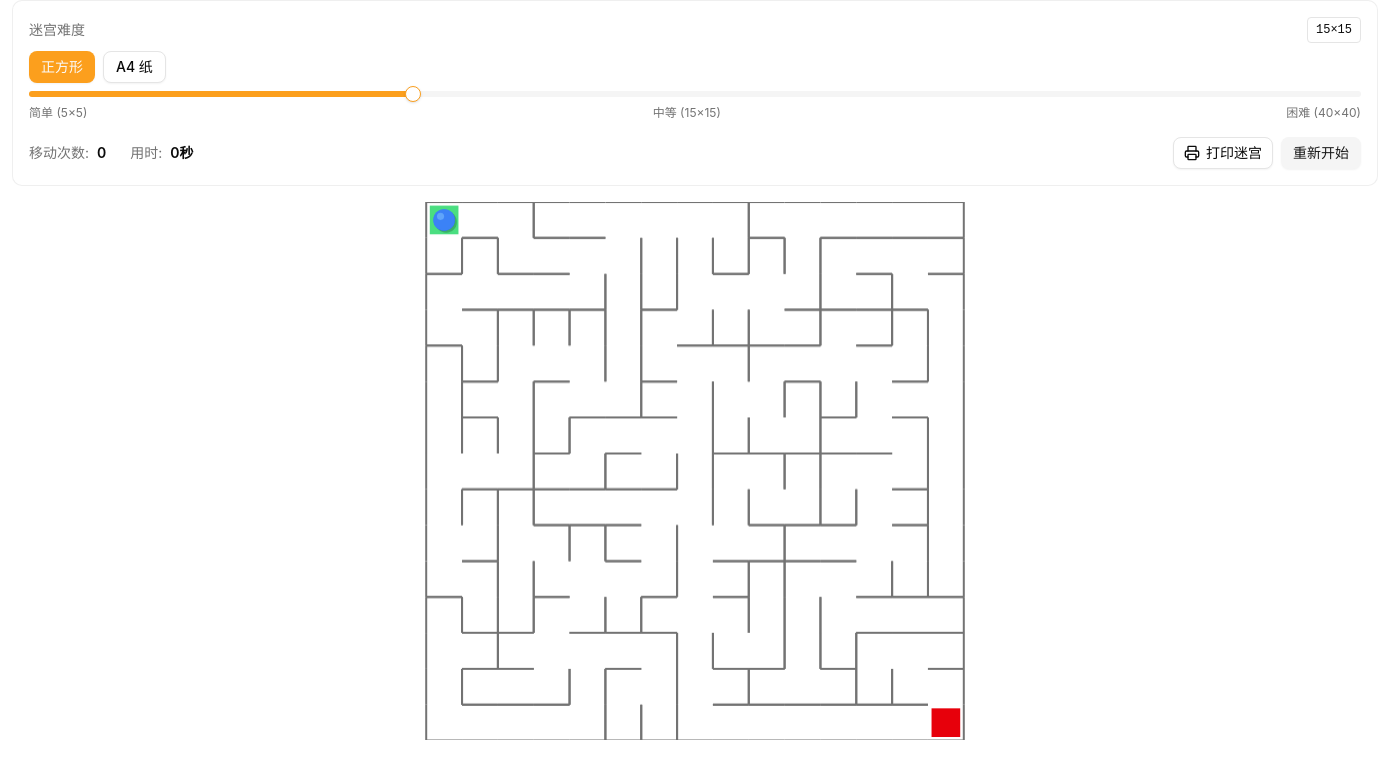
MazeGame controls › switches to an A4 rectangle that fills portrait paper
Click the button "A4 纸": (134, 67) left=103, top=51, right=166, bottom=83
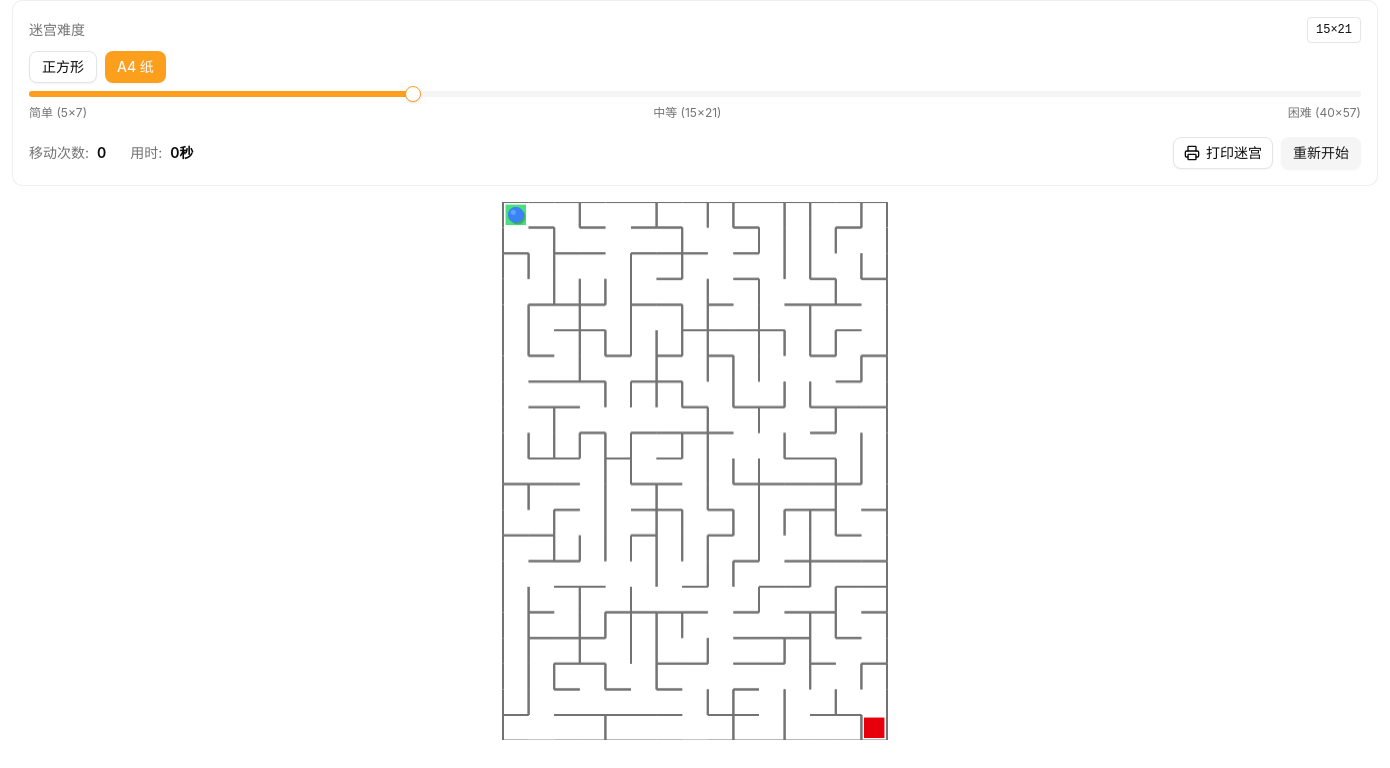
Result: the text "15×21" is shown at left=1307, top=17, right=1361, bottom=43
